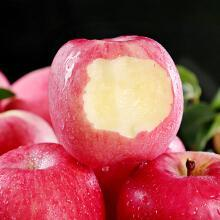apple: (47, 34, 184, 167), (1, 142, 105, 220), (116, 151, 220, 218)
